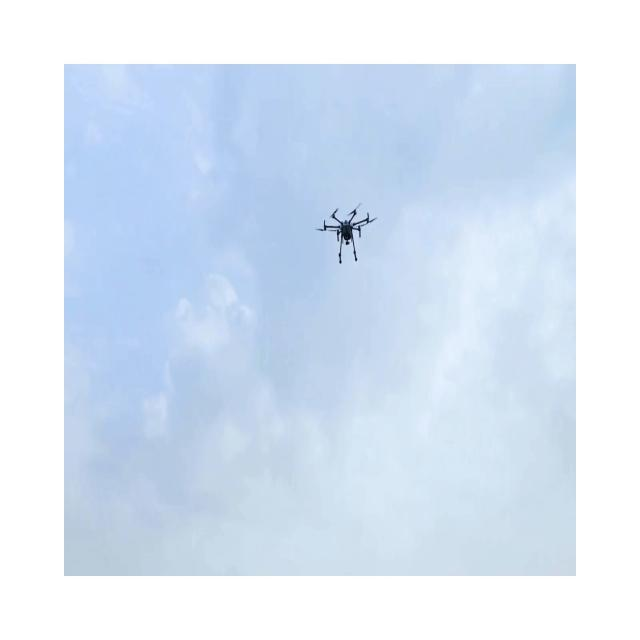drone: (316, 203, 378, 264)
